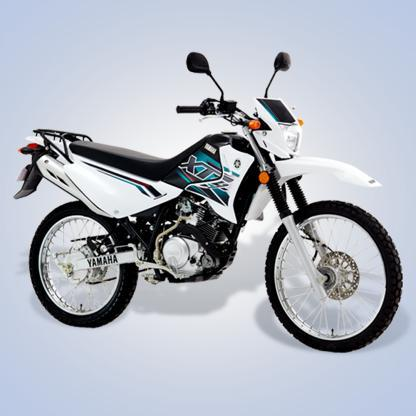Motorcycle: (6, 38, 405, 357)
